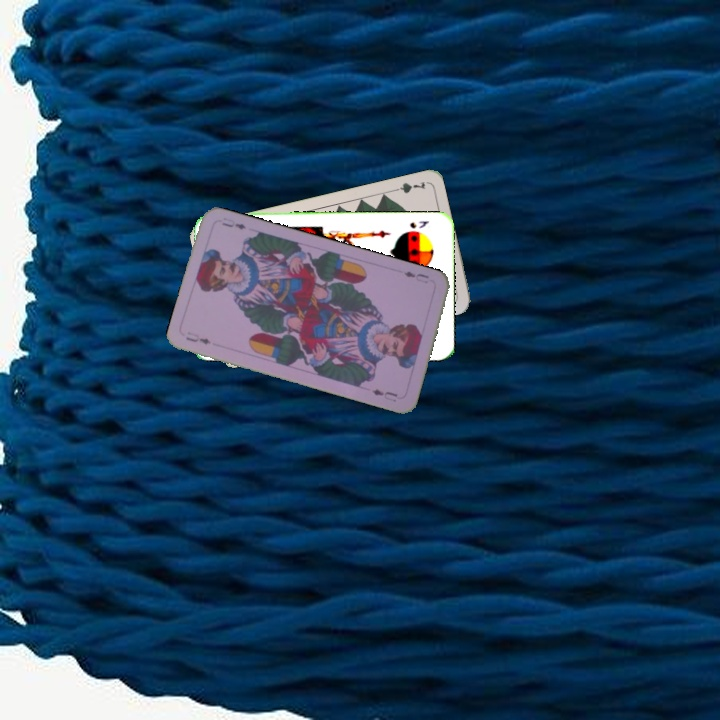EU: (400, 267, 431, 286), (182, 328, 213, 347)
G7: (387, 178, 428, 196)
SK: (406, 217, 431, 231)
